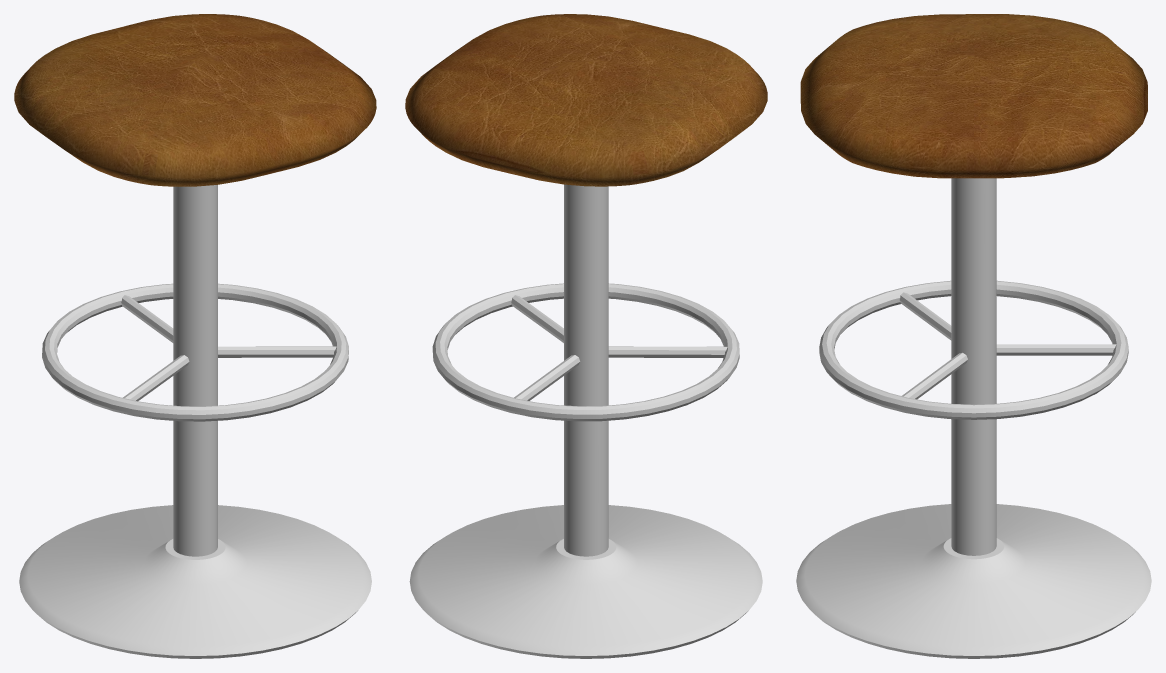
The model's file is taburete_giratorio_65.glb.
The picture shows the model from 3 angles, left to right: view 1: azimuth 30°, elevation 25°; view 2: azimuth 150°, elevation 25°; view 3: azimuth 270°, elevation 25°; orthographic projection.
Parts seen in each view (by area): view 1: taburete_giratorio_65; view 2: taburete_giratorio_65; view 3: taburete_giratorio_65.
Boxes of the visible parts, left/top/right/bottom form: taburete_giratorio_65: left=14, top=14, right=376, bottom=658; taburete_giratorio_65: left=405, top=14, right=767, bottom=658; taburete_giratorio_65: left=796, top=14, right=1151, bottom=658.
Bounding box in the file's own units: 0.41 × 0.672 × 0.41.
Materials: 2 (1 with a texture image).
